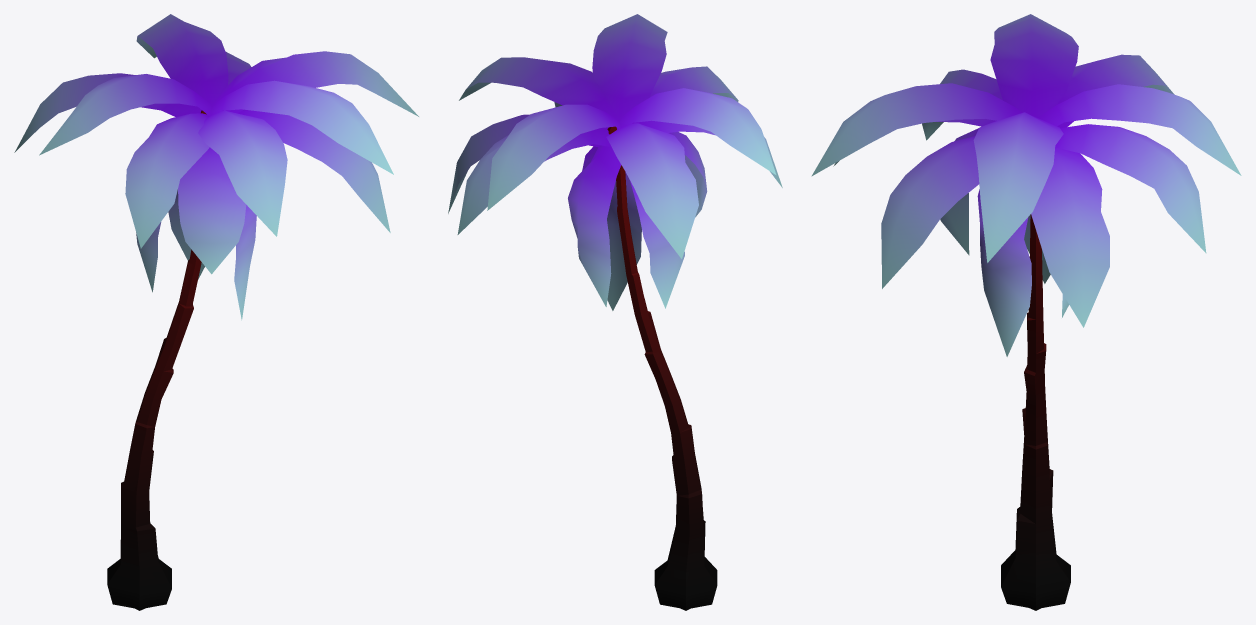
The model's file is SM_Env_Tree_Palm_01.fbx.
3 renders of one model, left to right at view 1: azimuth 30°, elevation 25°; view 2: azimuth 150°, elevation 25°; view 3: azimuth 270°, elevation 25°, orthographic. The views are drawn at different scales.
Visible parts, largest first — view 1: SM_Env_Tree_Palm_01_LOD0; view 2: SM_Env_Tree_Palm_01_LOD0; view 3: SM_Env_Tree_Palm_01_LOD0.
Part boxes in pixels (x1,y1,x2,y2): SM_Env_Tree_Palm_01_LOD0: (14,14,418,610); SM_Env_Tree_Palm_01_LOD0: (448,14,782,610); SM_Env_Tree_Palm_01_LOD0: (811,14,1241,610).
Size of what is drawn, in the model's own units: 546 by 790 by 532.
